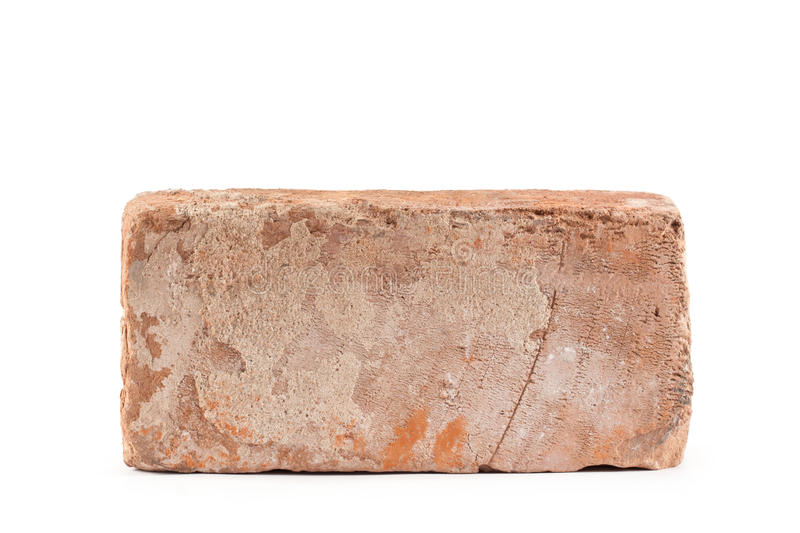brick: (126, 195, 687, 465)
